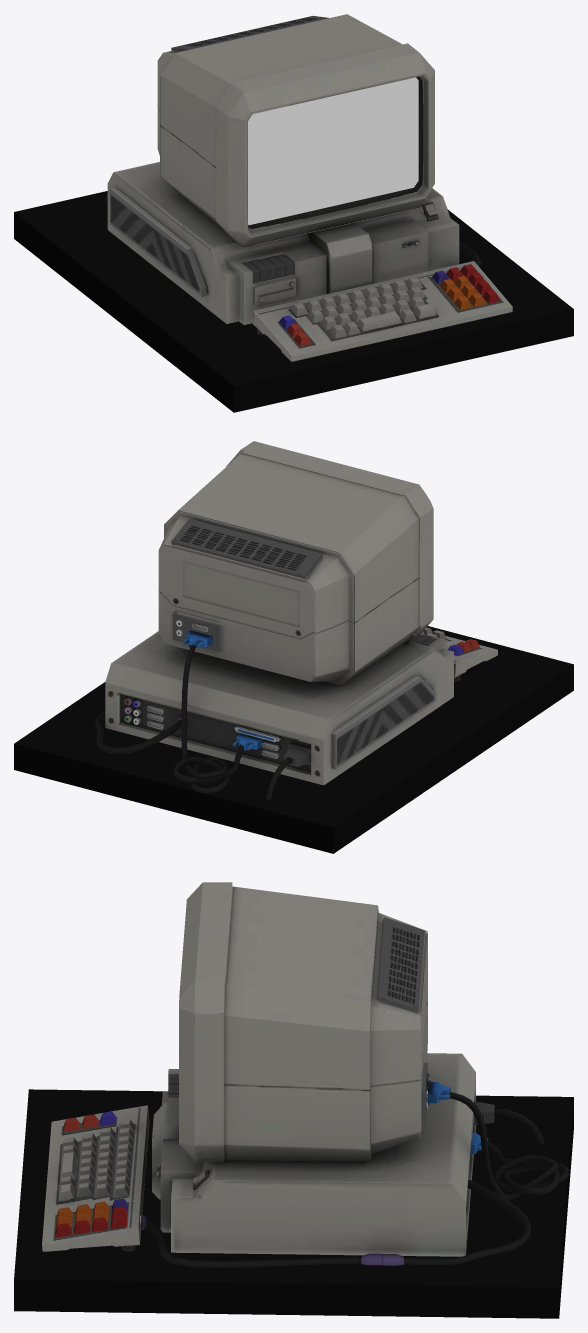
Rendered from computer-draco.glb.
3 renders of one model, top to bottom at view 1: azimuth 30°, elevation 25°; view 2: azimuth 150°, elevation 25°; view 3: azimuth 270°, elevation 25°, orthographic. The views are drawn at different scales.
Visible parts, largest first — view 1: Monitor-B-_computer_0, monitor-screen; view 2: Monitor-B-_computer_0; view 3: Monitor-B-_computer_0.
Boxes of the visible parts, left/top/right/bottom form: Monitor-B-_computer_0: left=14, top=14, right=573, bottom=412; monitor-screen: left=248, top=77, right=418, bottom=225; Monitor-B-_computer_0: left=14, top=441, right=573, bottom=853; Monitor-B-_computer_0: left=14, top=882, right=573, bottom=1318.
Bounding box in the file's own units: 2.57 × 1.8 × 3.07.
Materials: 9 (1 with a texture image).
